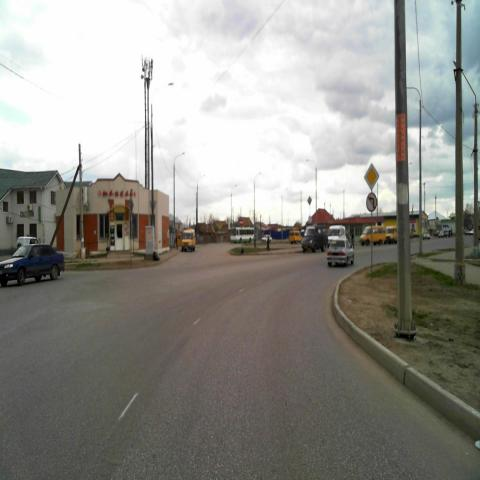3_18_2: (366, 192, 377, 212)
